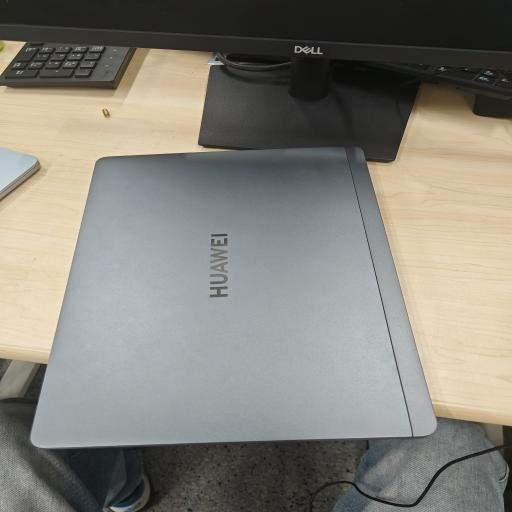laptop: (31, 148, 436, 448)
